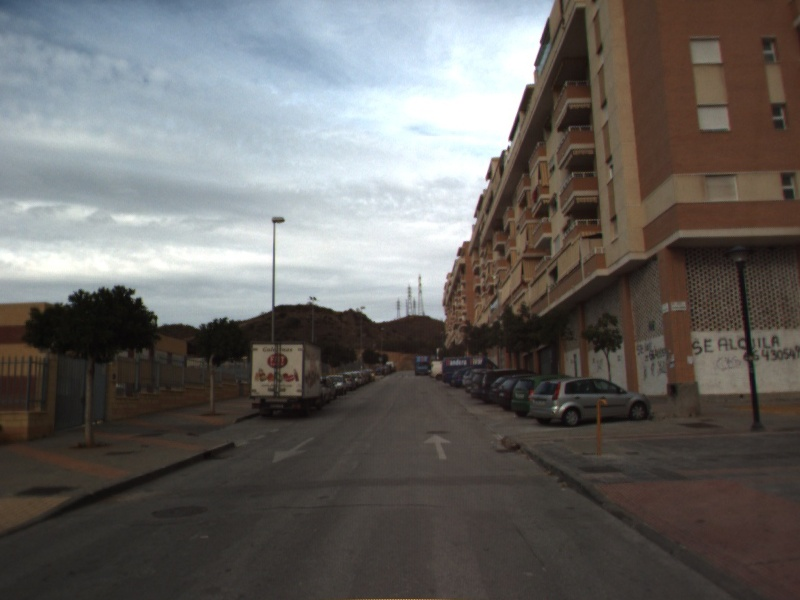STRAIGHT: (421, 432, 454, 461)
